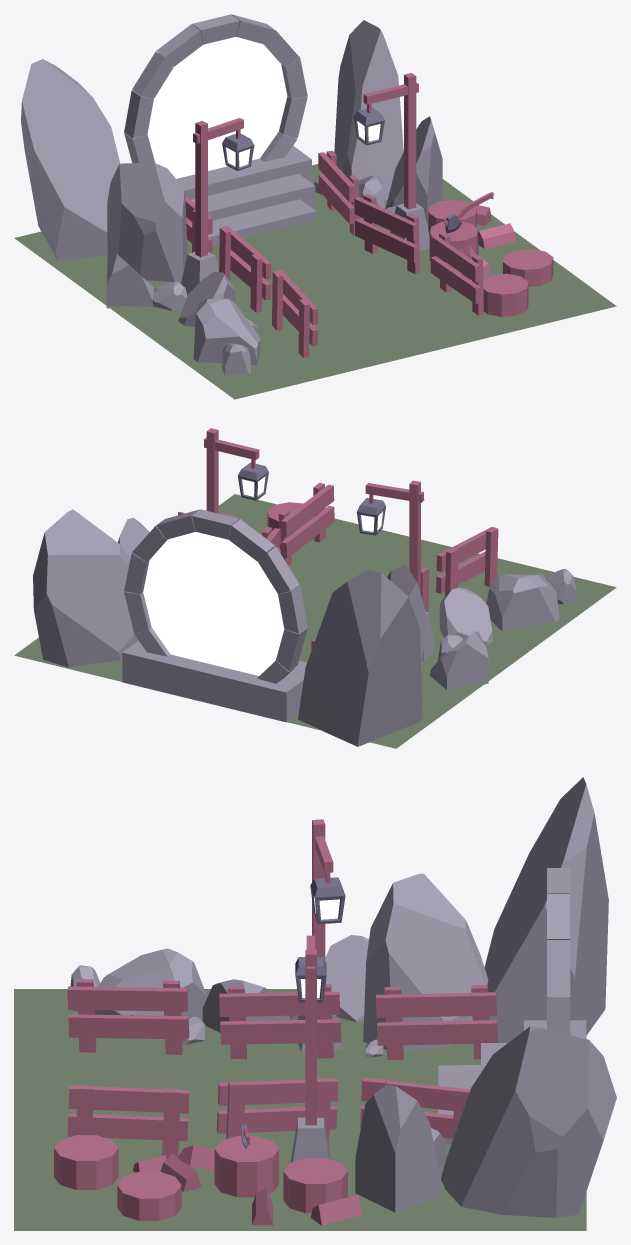
Rendered from portal.glb.
3 renders of one model, top to bottom at view 1: azimuth 30°, elevation 25°; view 2: azimuth 150°, elevation 25°; view 3: azimuth 270°, elevation 25°, orthographic. The views are drawn at different scales.
Parts seen in each view (by area): view 1: baked, PortalLight; view 2: baked, PortalLight; view 3: baked.
Part boxes in pixels (<box>): baked: <box>14,14,616,399</box>; PortalLight: <box>147,37,287,178</box>; baked: <box>14,428,616,748</box>; PortalLight: <box>143,532,284,675</box>; baked: <box>14,777,616,1230</box>.
Size of the model in its own units: 4.02 by 1.84 by 4.21.
